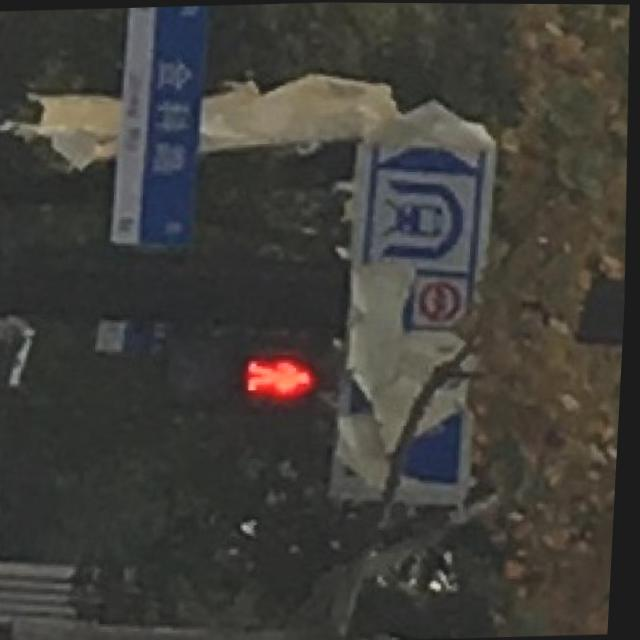red_light: (241, 345, 325, 406)
